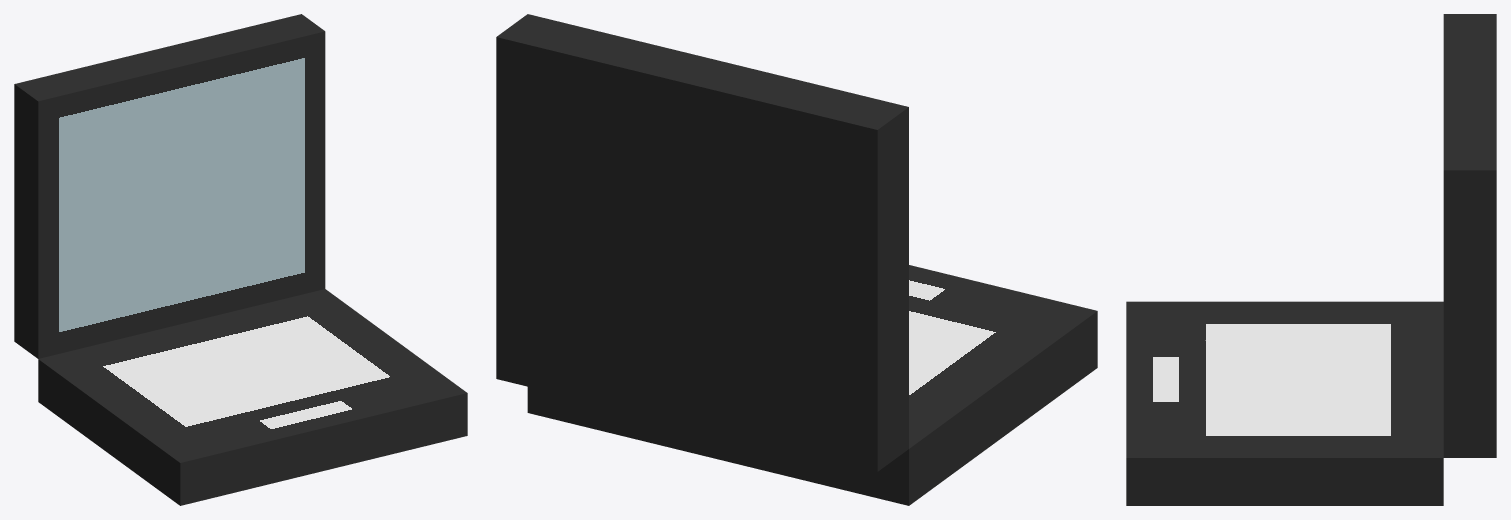
Rendered from Laptop.dae.
3 views of the same model, side by side, from view 1: azimuth 30°, elevation 25°; view 2: azimuth 150°, elevation 25°; view 3: azimuth 270°, elevation 25° (orthographic). The views are drawn at different scales.
Parts seen in each view (by area): view 1: Laptop; view 2: Laptop; view 3: Laptop.
Boxes of the visible parts, box(x1,y1,x2,y2) form: Laptop: box(14, 14, 467, 505); Laptop: box(496, 14, 1097, 505); Laptop: box(1126, 14, 1496, 505).
Bounding box in the file's own units: 14 × 14 × 14.
1 material, 1 textured.
